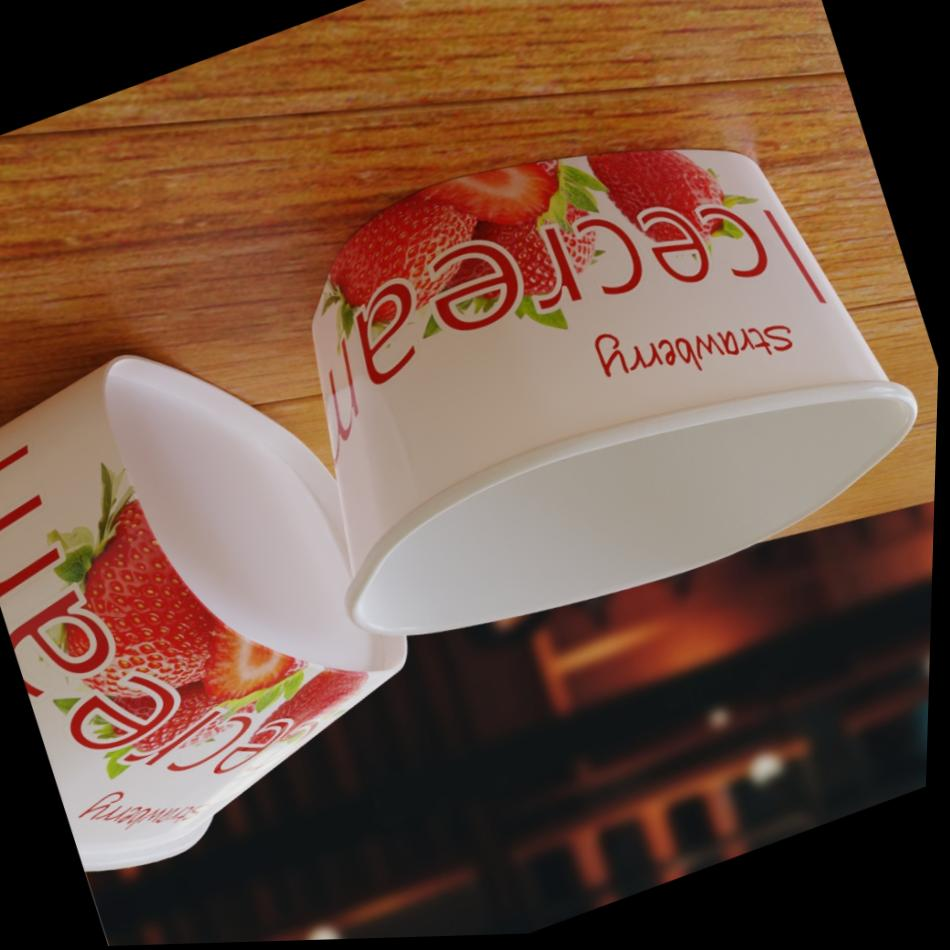plastic: (226, 45, 948, 695), (0, 284, 454, 895)
